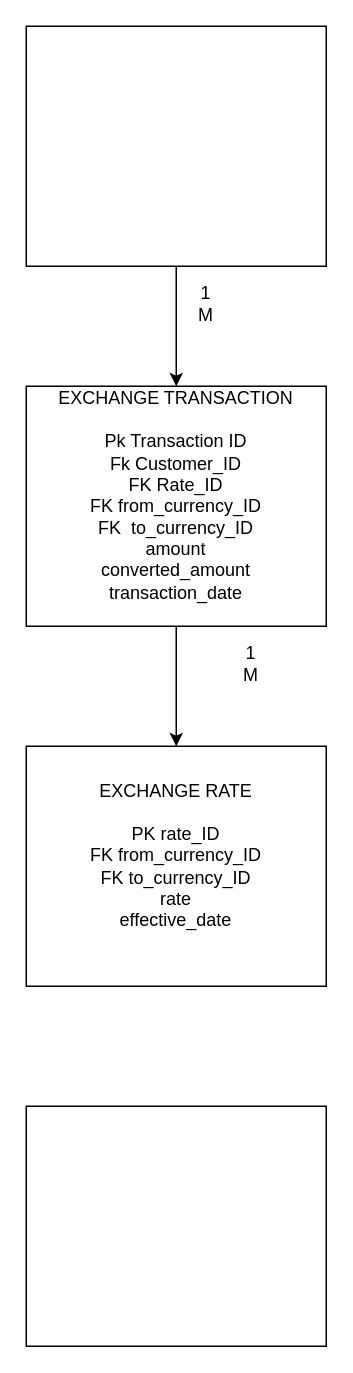
This 353x1373 diagram has some shape labels left out. The box of each missing label's shape, as (x1, y1, x2, y2) in pixels:
CURRENCY Pk currency_ID currency_code currency_name symbol: (25, 1105, 326, 1346)
CUSTOMER Pk Customer ID First_name Last_name email phone: (25, 25, 326, 266)
